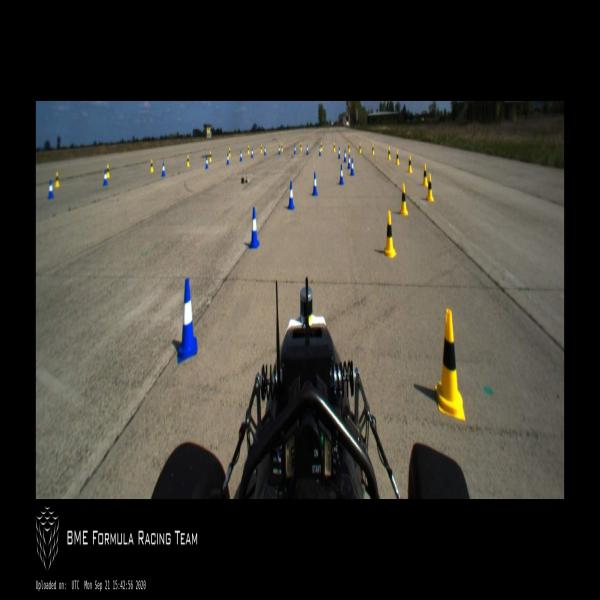blue_cone: (177, 279, 197, 363), (250, 208, 260, 247), (288, 181, 294, 209), (312, 172, 318, 195), (48, 180, 53, 199), (339, 164, 343, 184), (103, 170, 107, 186), (162, 163, 165, 176), (205, 157, 208, 169), (351, 159, 353, 174), (348, 154, 350, 169), (344, 150, 346, 162), (338, 147, 340, 159), (240, 150, 242, 162), (227, 153, 229, 164), (319, 146, 321, 156), (294, 144, 296, 154), (251, 148, 253, 158), (264, 146, 266, 155), (306, 146, 308, 154), (278, 146, 280, 154)
yellow_cone: (435, 309, 465, 420), (384, 210, 396, 256), (400, 183, 408, 215), (427, 173, 434, 201), (422, 164, 428, 186), (408, 156, 412, 173), (150, 160, 154, 172), (56, 172, 59, 187), (396, 150, 399, 165), (107, 164, 110, 177), (388, 147, 390, 160), (372, 144, 374, 156), (359, 143, 361, 154), (187, 156, 189, 166), (348, 143, 350, 153), (334, 142, 336, 152), (300, 142, 302, 152), (260, 144, 262, 153), (210, 153, 212, 161), (248, 146, 250, 154), (229, 148, 230, 156)
